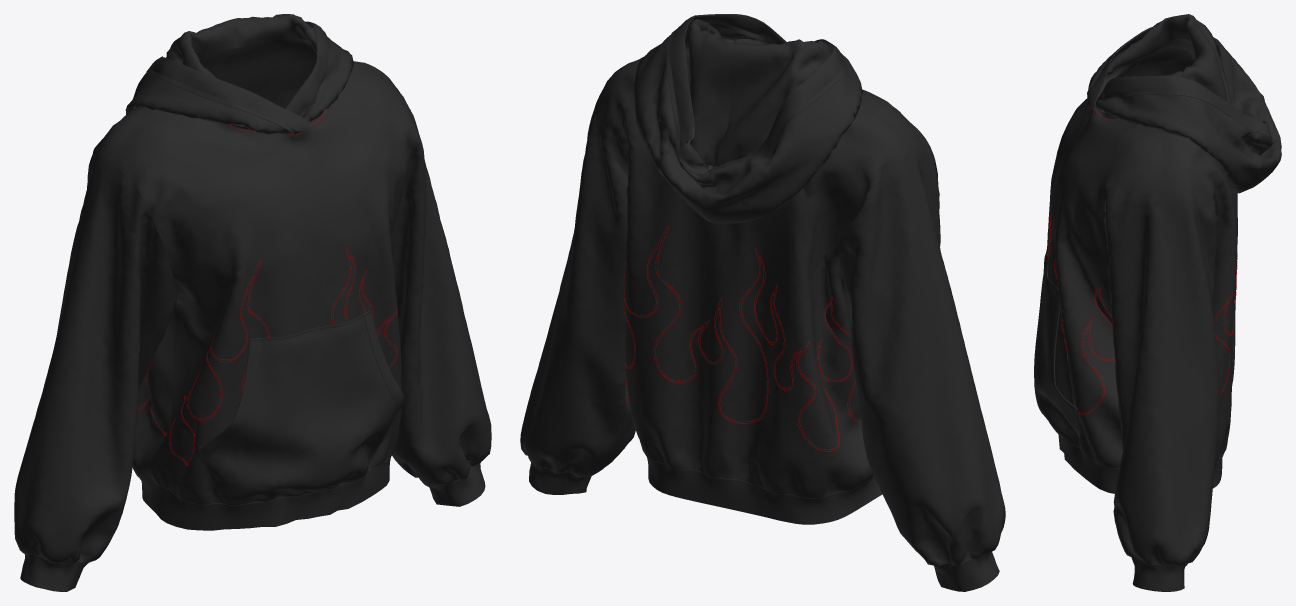
Rendered from classic_black_flame_hoodie.glb.
3 renders of one model, left to right at view 1: azimuth 30°, elevation 25°; view 2: azimuth 150°, elevation 25°; view 3: azimuth 270°, elevation 25°, orthographic. The views are drawn at different scales.
Visible parts, largest first — view 1: hoodie_Rib_2X2_468gsm_hoodie_end_0, hoodie_stitches_0; view 2: hoodie_Rib_2X2_468gsm_hoodie_end_0, hoodie_stitches_0; view 3: hoodie_Rib_2X2_468gsm_hoodie_end_0, hoodie_stitches_0.
Part boxes in pixels (x1,y1,x2,y2): hoodie_Rib_2X2_468gsm_hoodie_end_0: [14, 14, 491, 591]; hoodie_stitches_0: [138, 109, 397, 465]; hoodie_Rib_2X2_468gsm_hoodie_end_0: [520, 14, 1005, 591]; hoodie_stitches_0: [624, 226, 861, 451]; hoodie_Rib_2X2_468gsm_hoodie_end_0: [1034, 14, 1281, 591]; hoodie_stitches_0: [1047, 108, 1237, 414].
Bounding box in the file's own units: 0.6047 × 0.6407 × 0.3096.
Materials: 2 (1 with a texture image).
